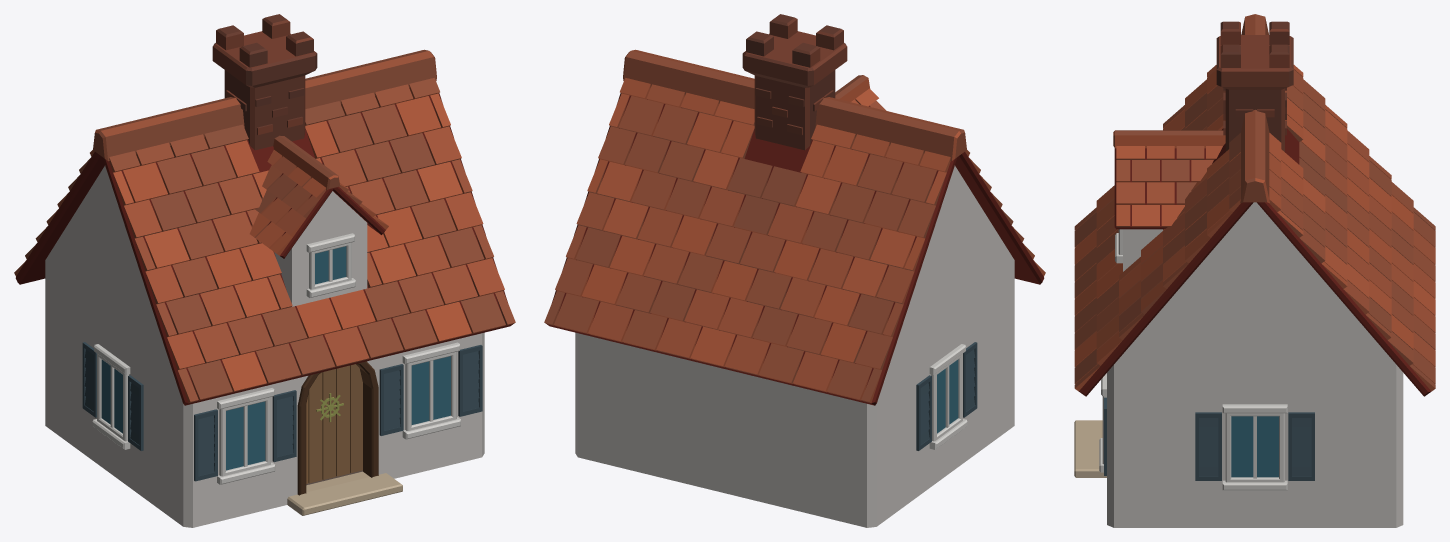
The model's file is lighthouse-keeper-s-cottage-4f6d33.glb.
The picture shows the model from 3 angles, left to right: view 1: azimuth 30°, elevation 25°; view 2: azimuth 150°, elevation 25°; view 3: azimuth 270°, elevation 25°; orthographic projection. The views are drawn at different scales.
Parts seen in each view (by area): view 1: cottage-body, door-leaf; view 2: cottage-body; view 3: cottage-body.
Part boxes in pixels (x1,y1,x2,y2): cottage-body: (14,14,515,527); door-leaf: (306,364,362,483); cottage-body: (544,14,1045,527); cottage-body: (1074,14,1435,527).
Bounding box in the file's own units: 6.62 × 7.74 × 6.09.
